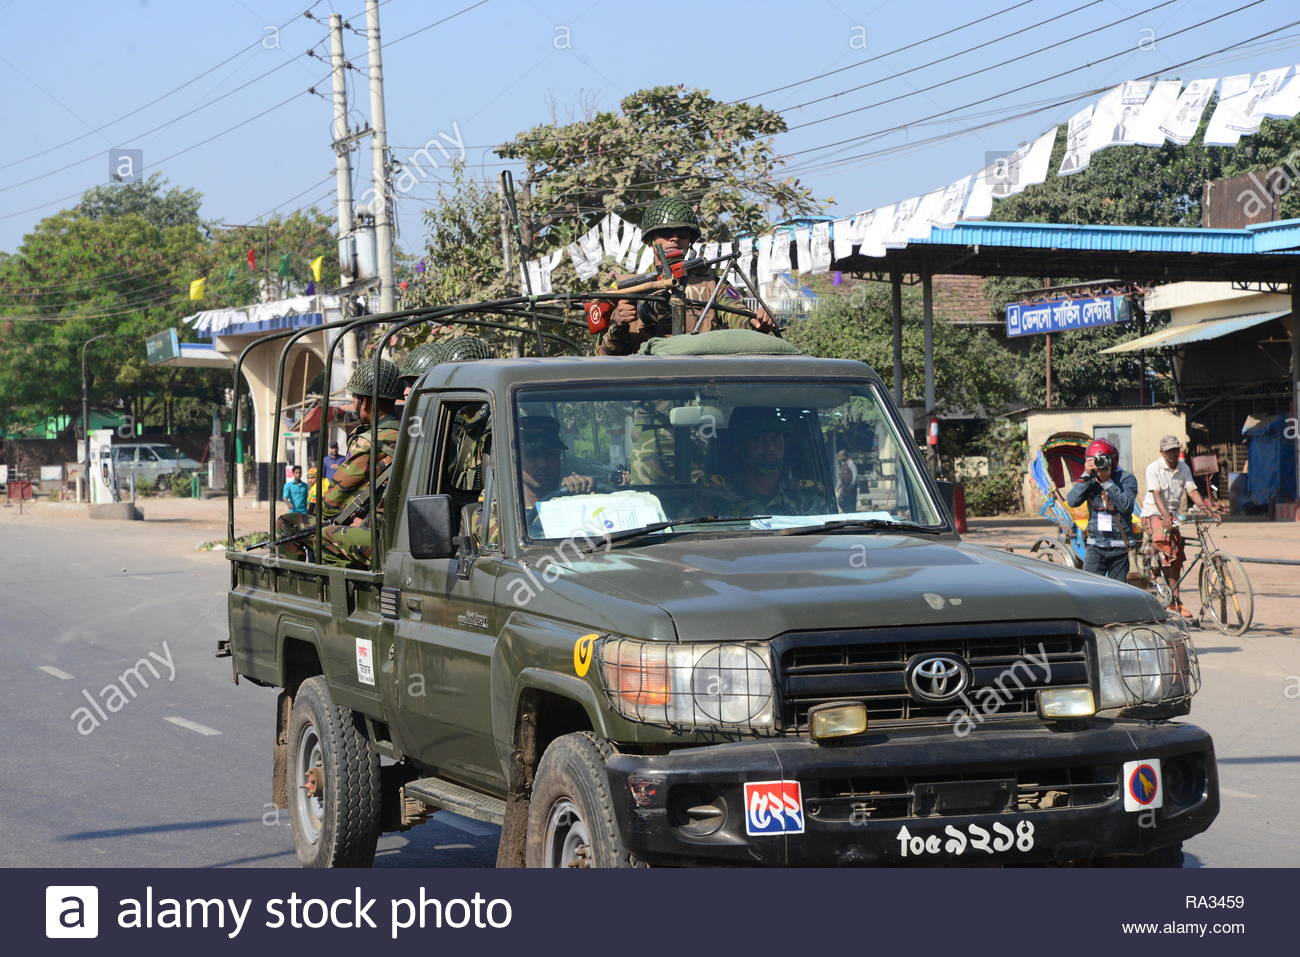army vehicle: (217, 283, 1227, 865)
rickshaw: (1025, 428, 1260, 639)
van: (100, 442, 201, 489)
